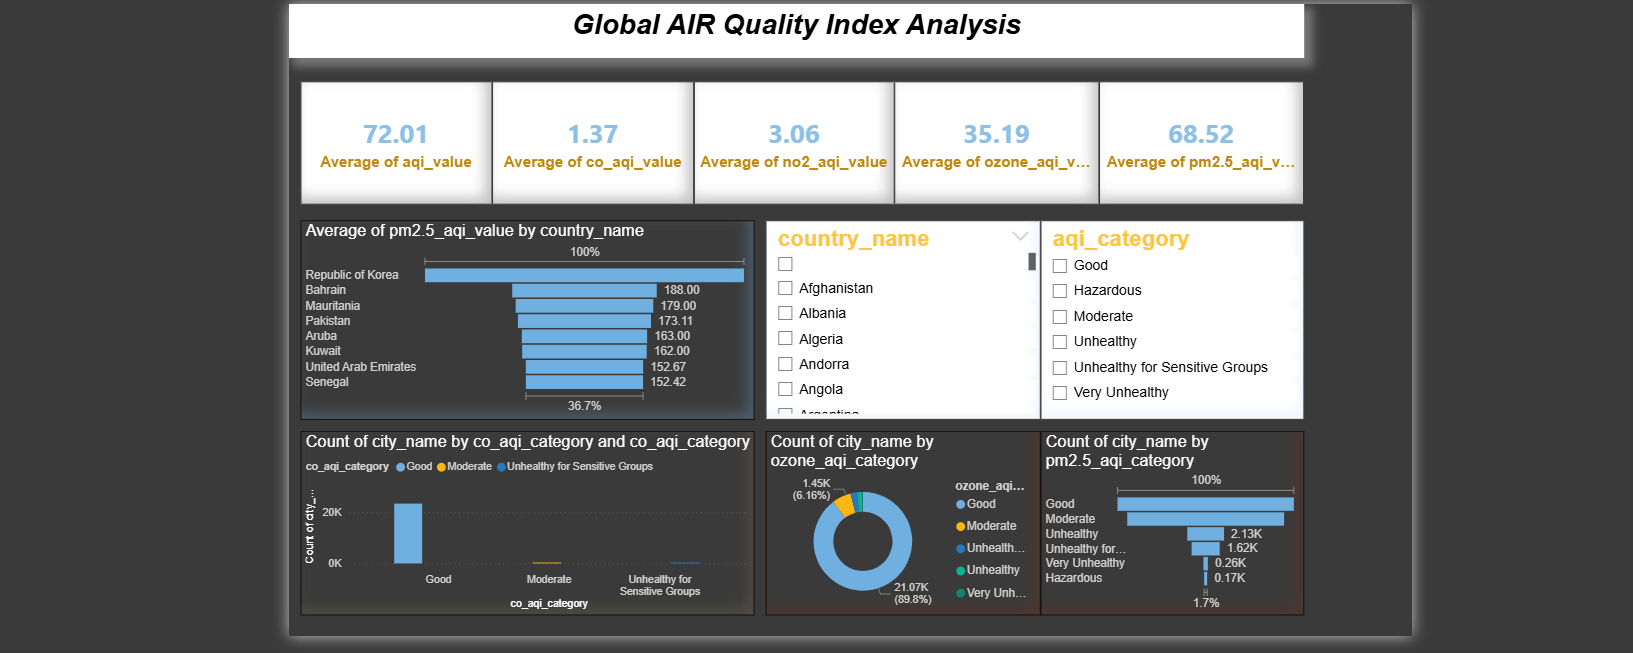

The page's visual inventory and layout, read from the dashboard file:
{"tool":"powerbi","page":{"name":"Page 1","canvas":[1280,720],"ordinal":0},"visuals":[{"type":"textbox","box":[0,0,1156.7,61.7],"z":0},{"type":"slicer","fields":{"Values":["air quality data.aqi_category"]},"box":[856.7,246.7,300,226.7],"z":1000},{"type":"card","fields":{"Values":["Avg(air quality data.aqi_value)"]},"box":[13.3,88.3,218.3,140],"z":2000},{"type":"card","fields":{"Values":["Avg(air quality data.co_aqi_value)"]},"box":[231.7,88.3,230,140],"z":3000},{"type":"card","fields":{"Values":["Avg(air quality data.no2_aqi_value)"]},"box":[461.7,88.3,228.3,140],"z":4000},{"type":"card","fields":{"Values":["Avg(air quality data.ozone_aqi_value)"]},"box":[690,88.3,233.3,140],"z":5000},{"type":"card","fields":{"Values":["Avg(air quality data.pm2.5_aqi_value)"]},"box":[923.3,88.3,233.3,140],"z":6000},{"type":"slicer","fields":{"Values":["air quality data.country_name"]},"box":[543.3,246.7,313.3,226.7],"z":7000},{"type":"funnel","fields":{"Category":["air quality data.country_name"],"Y":["Avg(air quality data.pm2.5_aqi_value)"]},"box":[13.3,246.7,516.7,226.7],"z":8000},{"type":"clusteredColumnChart","fields":{"Category":["air quality data.co_aqi_category"],"Series":["air quality data.co_aqi_category"],"Y":["CountNonNull(air quality data.city_name)"]},"box":[13.3,486.7,516.7,210],"z":9000},{"type":"donutChart","fields":{"Category":["air quality data.ozone_aqi_category"],"Y":["CountNonNull(air quality data.city_name)"]},"box":[543.3,486.7,313.3,210],"z":10000},{"type":"funnel","fields":{"Category":["air quality data.pm2.5_aqi_category"],"Y":["CountNonNull(air quality data.city_name)"]},"box":[856.7,486.7,300,210],"z":11000}]}

Visuals, with their boxes on the page's 1280x720 design canvas (x1, y1, x2, y2). These are canvas units, not pixel positions in the 1633x653 screenshot, which may show the page scaled, cropped or inside an application window:
textbox: 0:0:1157:62
slicer - air quality data.aqi_category: 857:247:1157:473
card - Avg(air quality data.aqi_value): 13:88:232:228
card - Avg(air quality data.co_aqi_value): 232:88:462:228
card - Avg(air quality data.no2_aqi_value): 462:88:690:228
card - Avg(air quality data.ozone_aqi_value): 690:88:923:228
card - Avg(air quality data.pm2.5_aqi_value): 923:88:1157:228
slicer - air quality data.country_name: 543:247:857:473
funnel - air quality data.country_name x Avg(air quality data.pm2.5_aqi_value): 13:247:530:473
clusteredColumnChart - air quality data.co_aqi_category x air quality data.co_aqi_category: 13:487:530:697
donutChart - air quality data.ozone_aqi_category x CountNonNull(air quality data.city_name): 543:487:857:697
funnel - air quality data.pm2.5_aqi_category x CountNonNull(air quality data.city_name): 857:487:1157:697
